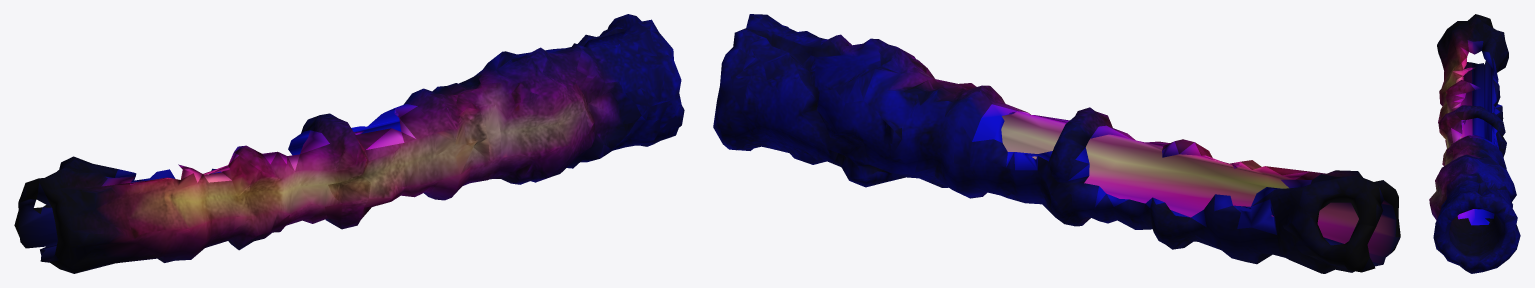
The model's file is stormglass_far.glb.
3 renders of one model, left to right at view 1: azimuth 30°, elevation 25°; view 2: azimuth 150°, elevation 25°; view 3: azimuth 270°, elevation 25°, orthographic. The views are drawn at different scales.
Visible parts, largest first — view 1: stormglass_far; view 2: stormglass_far; view 3: stormglass_far.
Boxes of the visible parts, x1=… form: stormglass_far: x1=14, y1=14, x2=684, y2=273; stormglass_far: x1=713, y1=14, x2=1400, y2=273; stormglass_far: x1=1429, y1=14, x2=1520, y2=273.
Size of the model in its own units: 0.4398 by 0.086 by 0.0867.
Materials: 2 (1 with a texture image).
